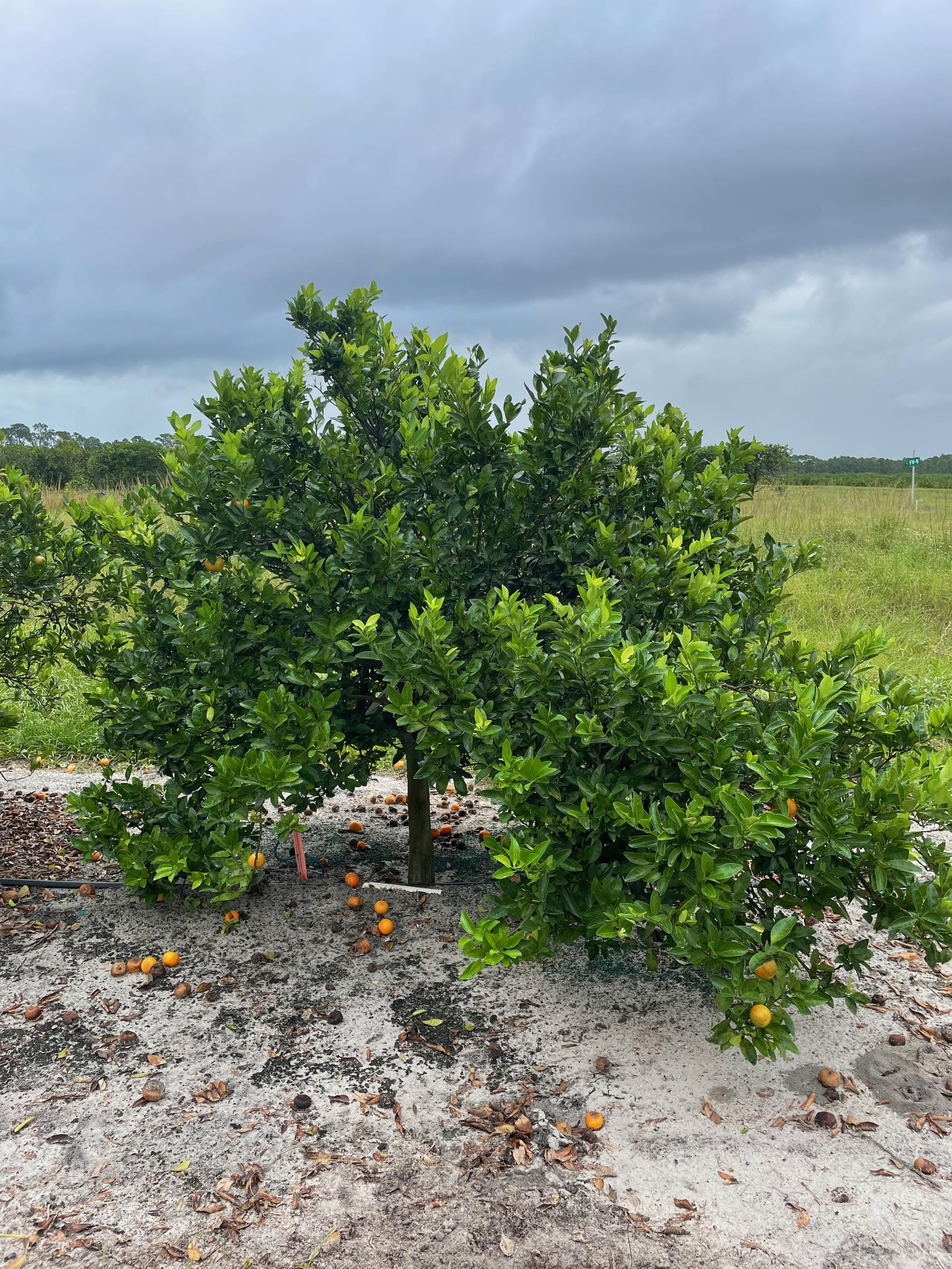fruit_on_ground: (767, 792, 799, 821), (751, 953, 780, 981), (747, 1003, 774, 1029), (229, 492, 251, 513), (203, 553, 226, 573), (247, 850, 266, 869), (32, 553, 48, 568)
fruit_on_tree: (816, 1064, 842, 1089), (913, 1154, 940, 1176), (812, 1108, 838, 1130), (583, 1108, 604, 1131), (142, 1080, 164, 1101), (22, 1004, 43, 1023), (139, 954, 158, 974), (77, 881, 98, 899), (887, 1030, 909, 1047), (173, 981, 192, 1000), (222, 907, 242, 925), (161, 949, 180, 967), (109, 959, 127, 977), (353, 936, 372, 953), (61, 1008, 80, 1025), (342, 871, 361, 888), (376, 918, 394, 935), (373, 896, 390, 913), (125, 956, 142, 973), (346, 893, 362, 909), (439, 821, 454, 836), (30, 754, 46, 768), (195, 979, 211, 993), (347, 818, 363, 832), (495, 831, 510, 845), (89, 848, 103, 862), (41, 887, 55, 900), (392, 757, 405, 771), (383, 792, 397, 805), (478, 827, 491, 840), (428, 824, 441, 837), (448, 801, 462, 813), (33, 789, 47, 801), (396, 791, 408, 804), (97, 755, 111, 766), (301, 804, 313, 816), (355, 838, 368, 849), (65, 762, 77, 773), (319, 856, 331, 867), (373, 806, 384, 815), (368, 794, 378, 803)
